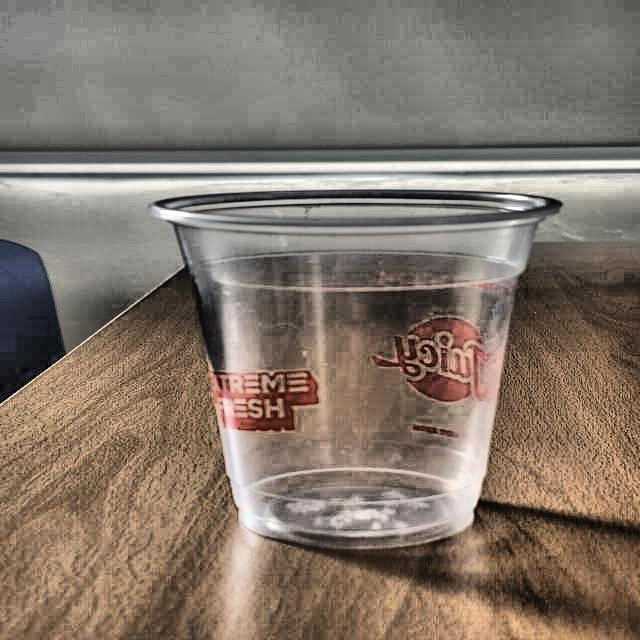plastic cup: (148, 188, 564, 550)
